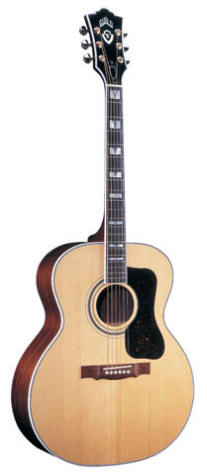guitar: (13, 10, 196, 467)
